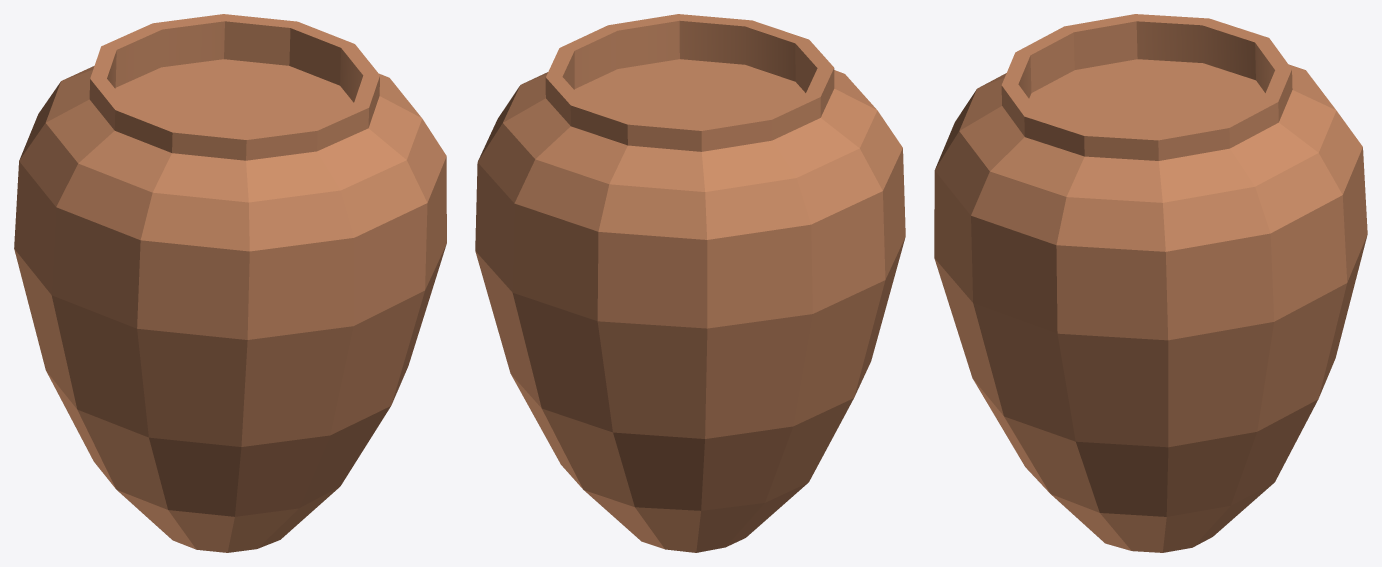
Rendered from Vaso_3_low.fbx.
3 views of the same model, side by side, from view 1: azimuth 30°, elevation 25°; view 2: azimuth 150°, elevation 25°; view 3: azimuth 270°, elevation 25° (orthographic).
Visible parts, largest first — view 1: Vaso_3_low; view 2: Vaso_3_low; view 3: Vaso_3_low.
Boxes of the visible parts, x1,y1,x2,y2 form: Vaso_3_low: [14, 14, 446, 552]; Vaso_3_low: [475, 14, 905, 552]; Vaso_3_low: [934, 14, 1367, 552].
Bounding box in the file's own units: 0.738 × 0.8603 × 0.7379.
